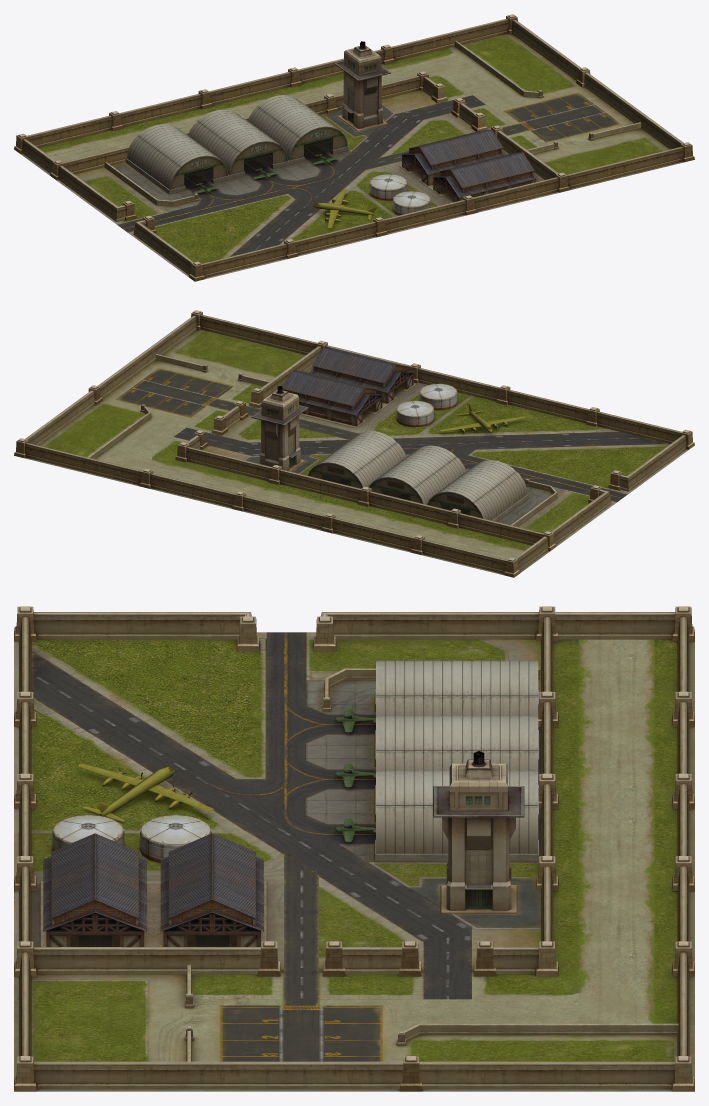
Rendered from Dhz_AilitaryAirport_01.FBX.
3 renders of one model, top to bottom at view 1: azimuth 30°, elevation 25°; view 2: azimuth 150°, elevation 25°; view 3: azimuth 270°, elevation 25°, orthographic. The views are drawn at different scales.
Parts seen in each view (by area): view 1: Dhz_AilitaryAirport_01; view 2: Dhz_AilitaryAirport_01; view 3: Dhz_AilitaryAirport_01.
Part boxes in pixels (bbox=[...]): Dhz_AilitaryAirport_01: bbox=[14, 14, 694, 281]; Dhz_AilitaryAirport_01: bbox=[14, 310, 694, 577]; Dhz_AilitaryAirport_01: bbox=[14, 606, 694, 1091].
Size of the model in its own units: 493 by 74.16 by 309.
